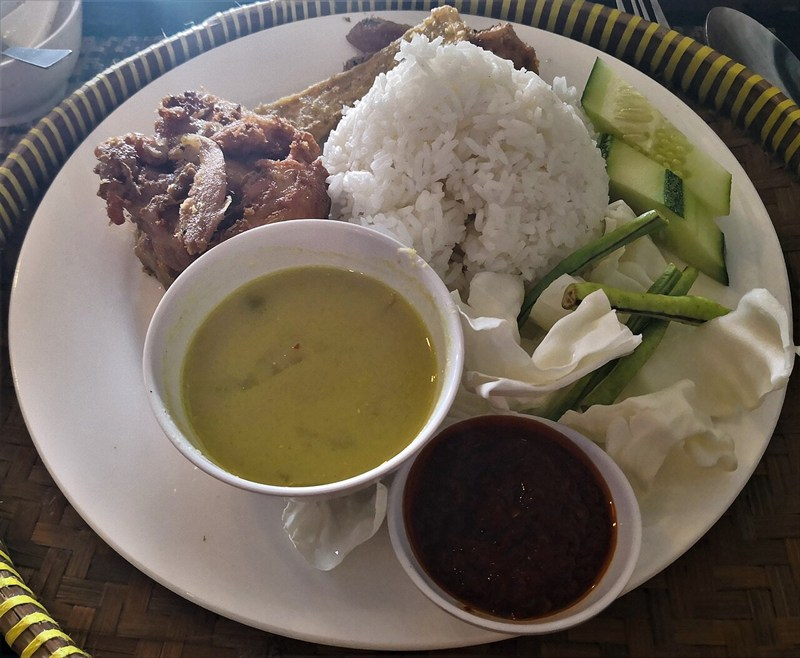Ayam Goreng: (21, 13, 773, 632)
